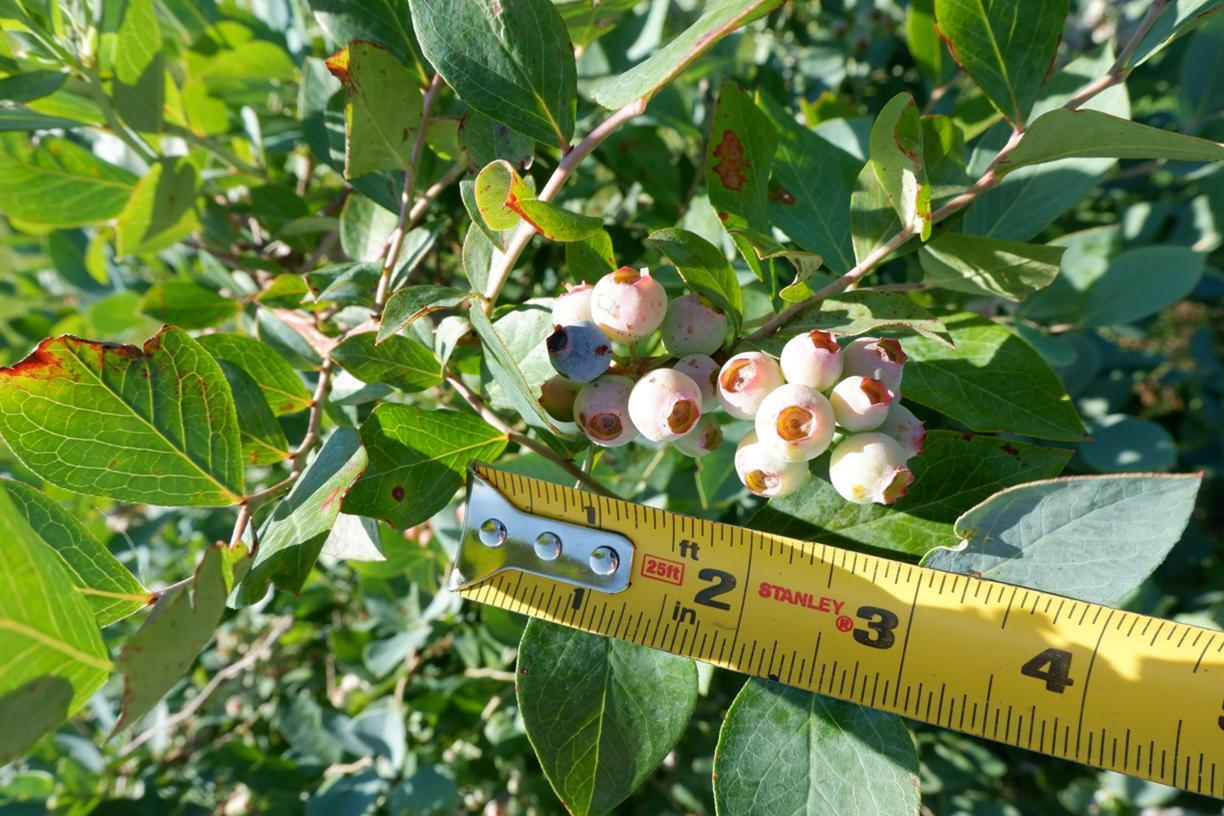Immature: (754, 383, 835, 464), (829, 432, 915, 504), (590, 265, 669, 343), (628, 369, 703, 444), (735, 429, 808, 498), (575, 374, 640, 447), (717, 351, 786, 419), (660, 295, 728, 359), (835, 338, 906, 394), (779, 331, 844, 392), (830, 375, 894, 431), (866, 402, 925, 459), (673, 357, 720, 411), (539, 374, 586, 422), (674, 413, 724, 458), (551, 284, 594, 325)
Mature: (546, 320, 612, 383)
